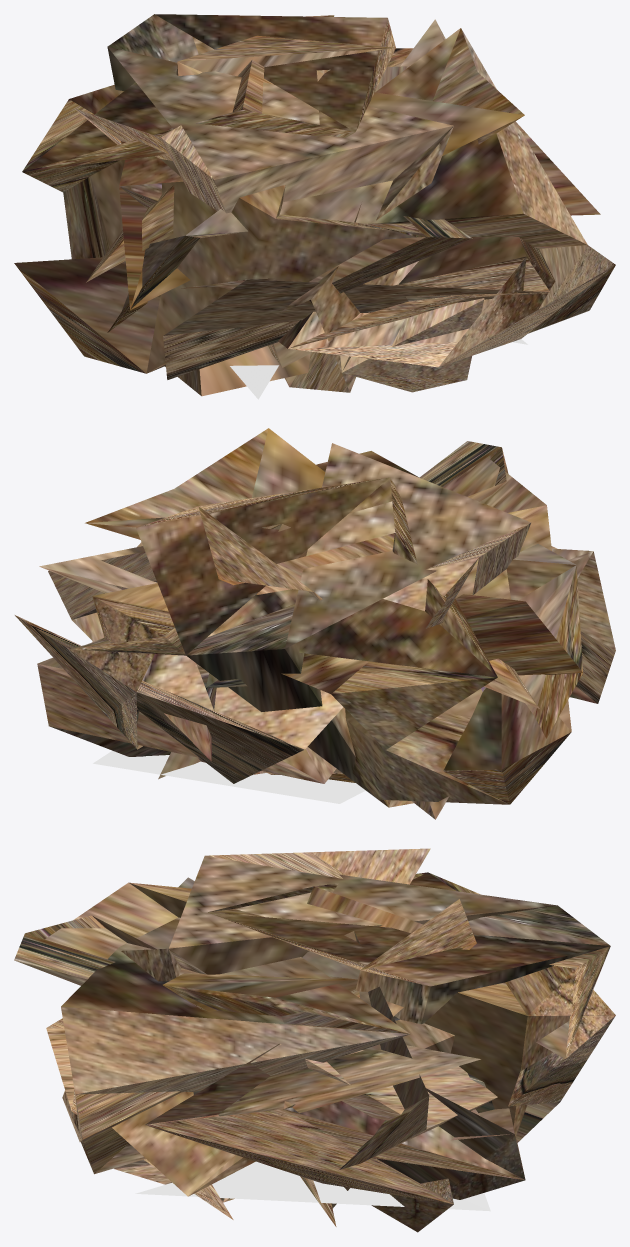
Rendered from asteroid2.obj.
3 renders of one model, top to bottom at view 1: azimuth 30°, elevation 25°; view 2: azimuth 150°, elevation 25°; view 3: azimuth 270°, elevation 25°, orthographic.
Visible parts, largest first — view 1: Cube, object 2; view 2: Cube, object 2; view 3: Cube, object 2.
Boxes of the visible parts, x1=… form: Cube: x1=14, y1=14, x2=615, y2=396; object 2: x1=230, y1=339, x2=527, y2=399; Cube: x1=15, y1=428, x2=615, y2=819; object 2: x1=93, y1=750, x2=365, y2=803; Cube: x1=14, y1=848, x2=615, y2=1232; object 2: x1=135, y1=1161, x2=490, y2=1211.
Bounding box in the file's own units: 3.18 × 1.68 × 3.63.
Materials: 2 (1 with a texture image).
